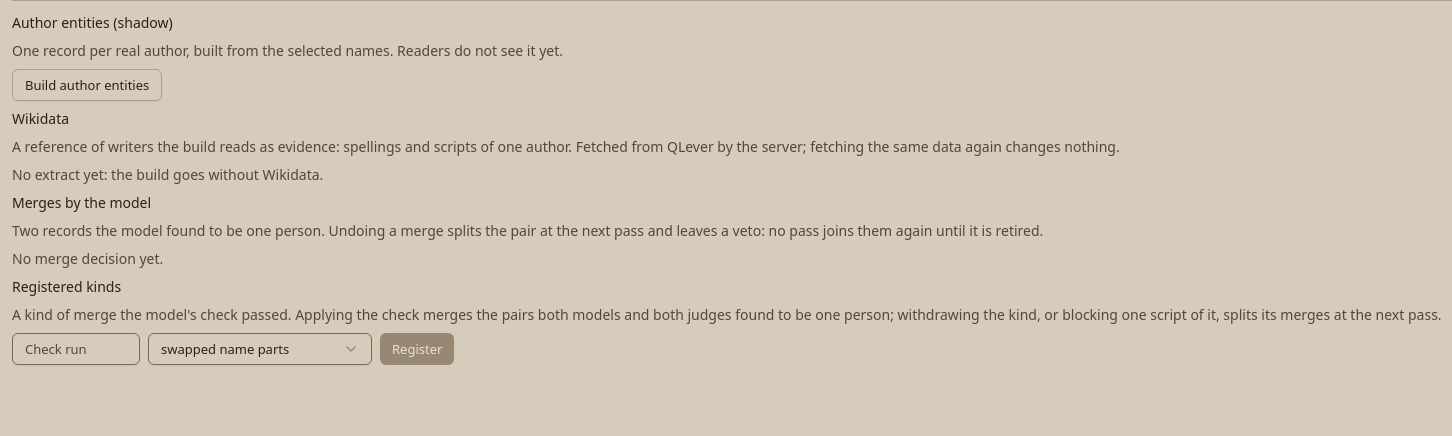
AuthorEntityBlock › registers a kind from a run and says why one was refused
This screenshot has width=1452, height=436.
Expected: the button "Register" is disabled, [380,333,454,365]
Type "33" into the field labelled "Check run" at (76, 349), box [12,333,140,365]
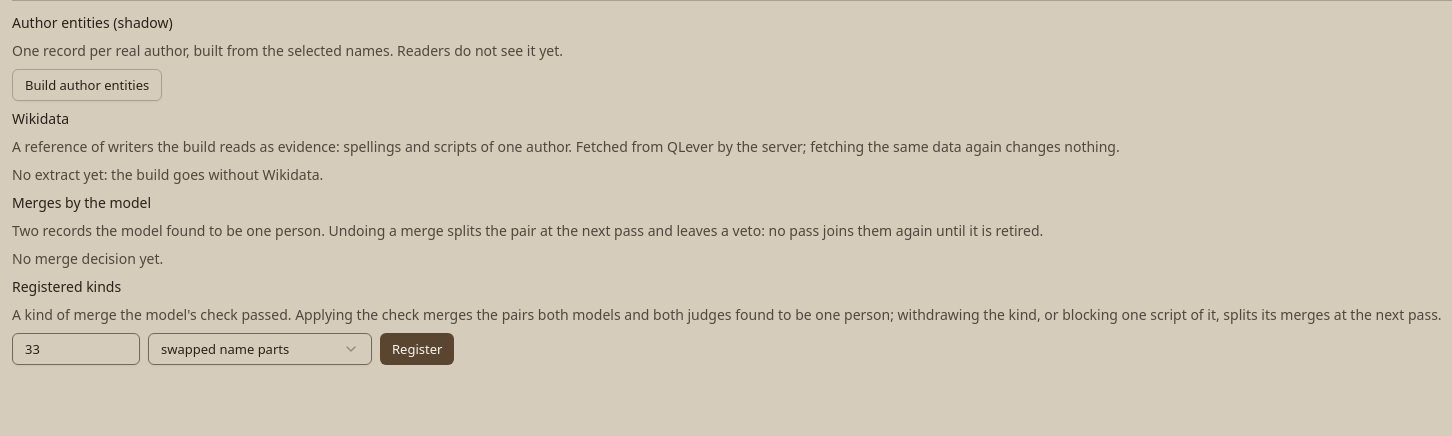
Click the button "Register" at (417, 349), box [380,333,454,365]
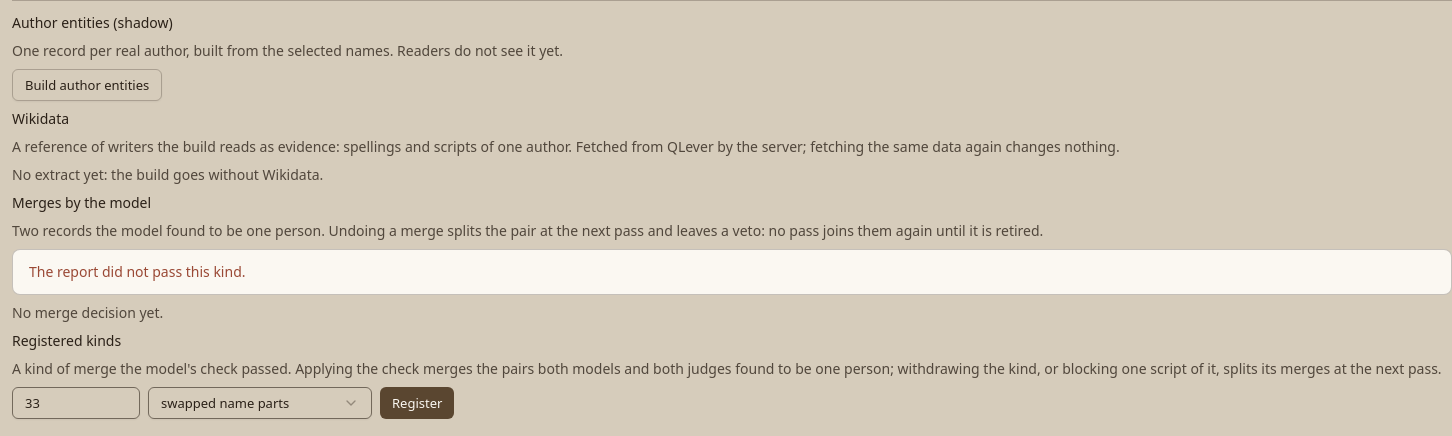
Result: the text "The report did not pass this kind." is shown at [29,262,246,281]
